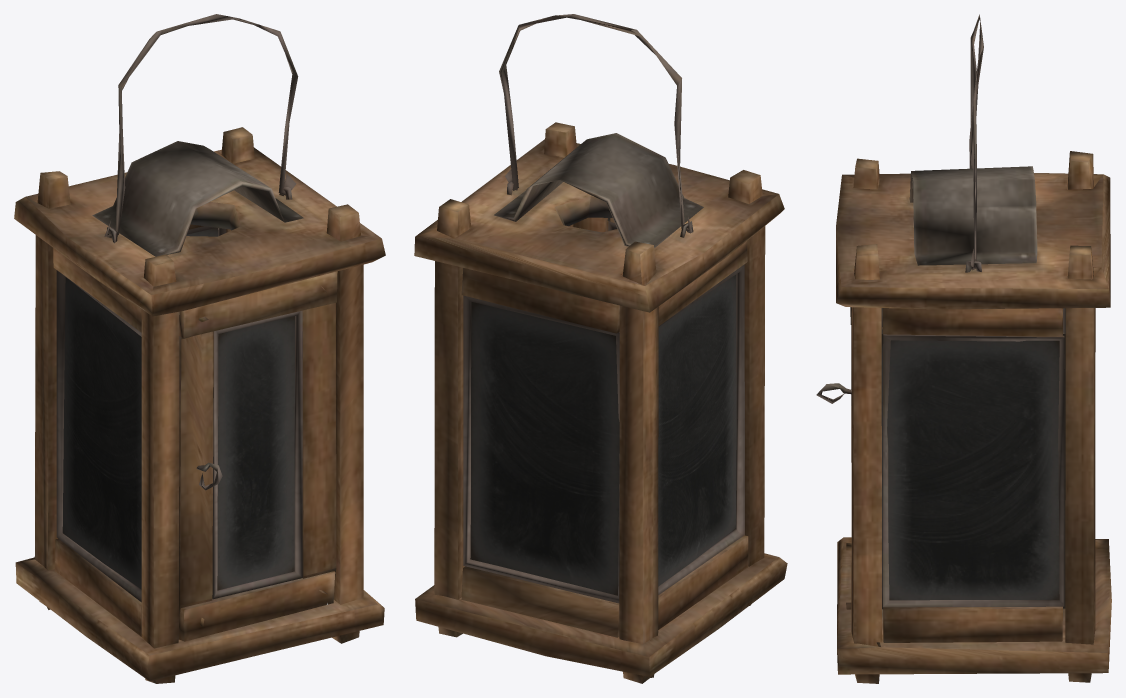
The model's file is prop_lantern_01.glb.
3 renders of one model, left to right at view 1: azimuth 30°, elevation 25°; view 2: azimuth 150°, elevation 25°; view 3: azimuth 270°, elevation 25°, orthographic.
Visible parts, largest first — view 1: prop_lantern_01; view 2: prop_lantern_01; view 3: prop_lantern_01.
Boxes of the visible parts, x1,y1,x2,y2 form: prop_lantern_01: (14,14,385,683); prop_lantern_01: (414,14,787,683); prop_lantern_01: (816,14,1111,683).
Size of the model in its own units: 0.2202 by 0.5278 by 0.2348.
Materials: 2 (2 with a texture image).
